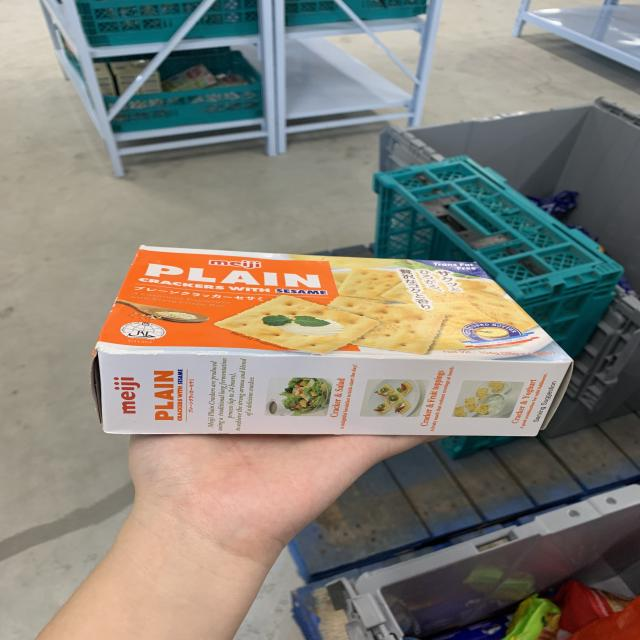object_name: (123, 248, 523, 435)
